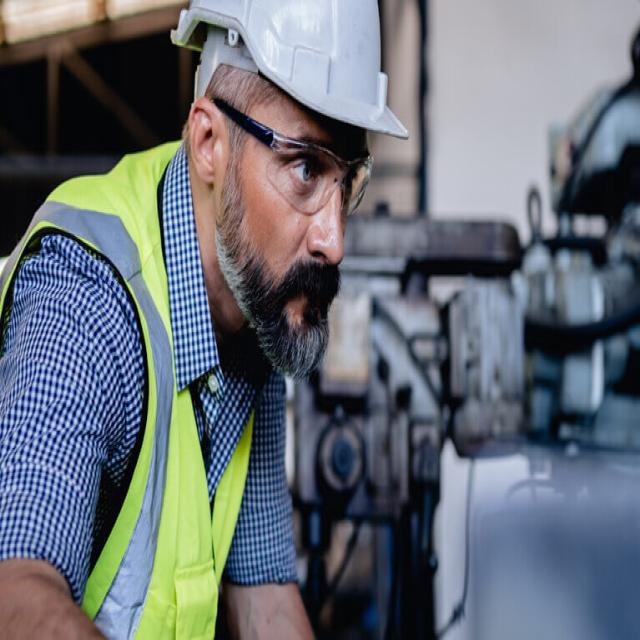goggles: (208, 91, 372, 225)
helmet: (165, 0, 413, 152)
vest: (0, 132, 257, 640)
